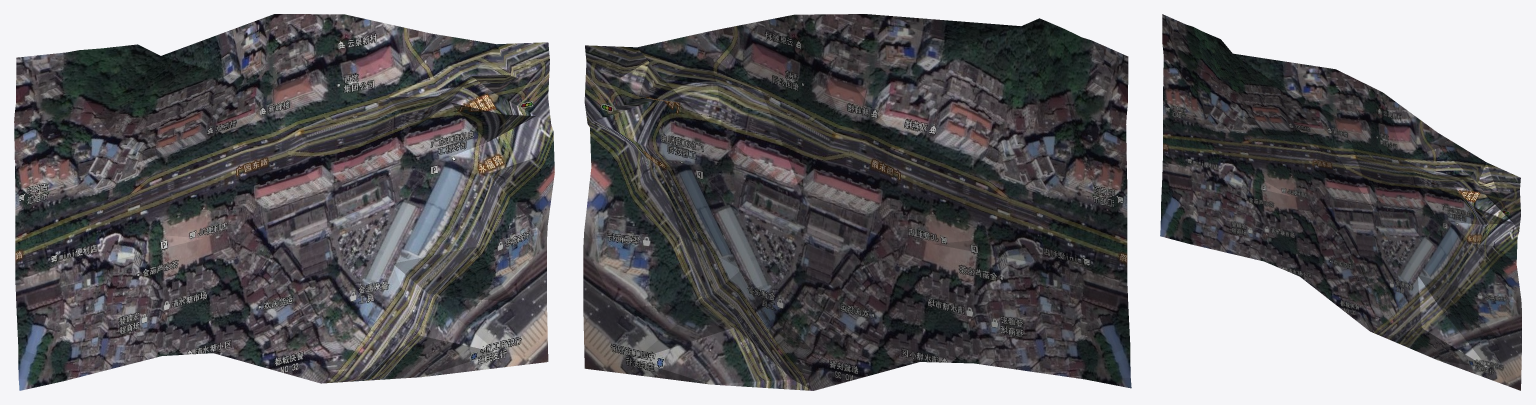
The picture shows the model from 3 angles, left to right: view 1: azimuth 30°, elevation 25°; view 2: azimuth 150°, elevation 25°; view 3: azimuth 330°, elevation 25°; orthographic projection. The views are drawn at different scales.
Visible parts, largest first — view 1: 0_1_0_3_3_2; view 2: 0_1_0_3_3_2; view 3: 0_1_0_3_3_2.
Part boxes in pixels (box(x1,y1,x2,y2)): 0_1_0_3_3_2: box(14, 14, 554, 390); 0_1_0_3_3_2: box(583, 14, 1131, 390); 0_1_0_3_3_2: box(1160, 14, 1521, 390).
Bounding box in the file's own units: 486 × 380 × 37.9.
Materials: 1 (1 with a texture image).
